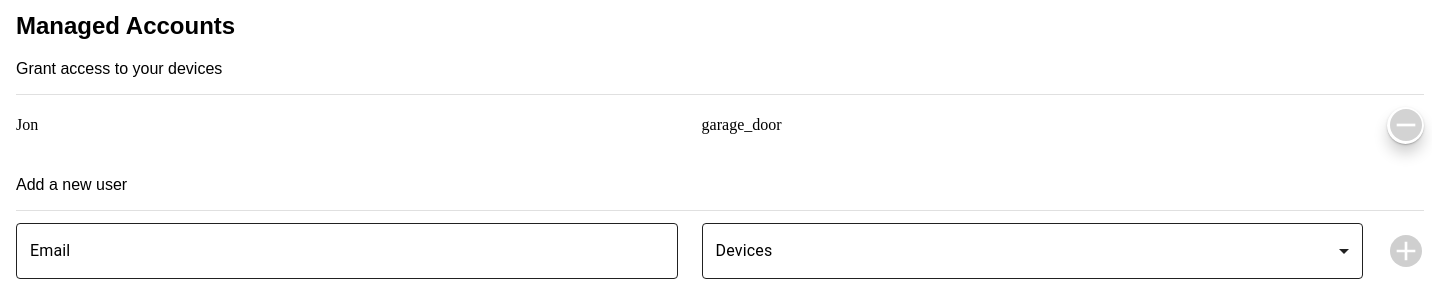
Test: AccountChildUser › Api Calls › should remove item from list after clicking the delete
Click the button named "user-Jon".
click(1406, 125)  # box x1=1387 y1=107 x2=1424 y2=144
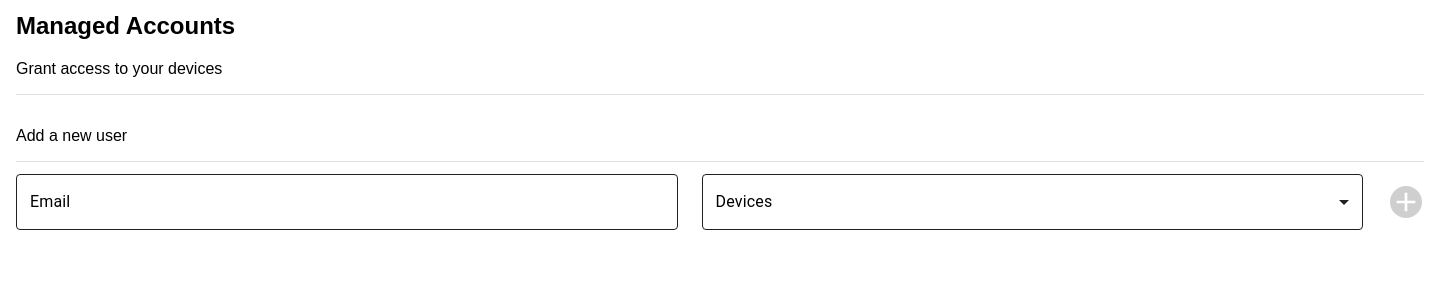
Expected: the text "Jon" is gone
